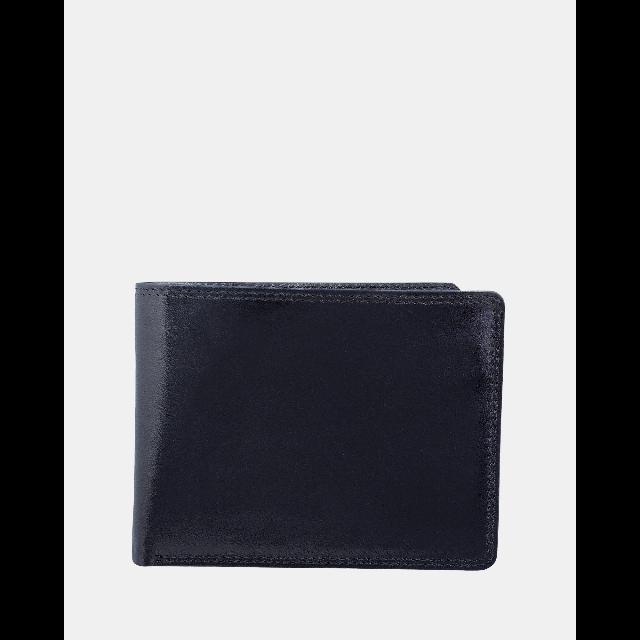wallet: (126, 274, 506, 576)
